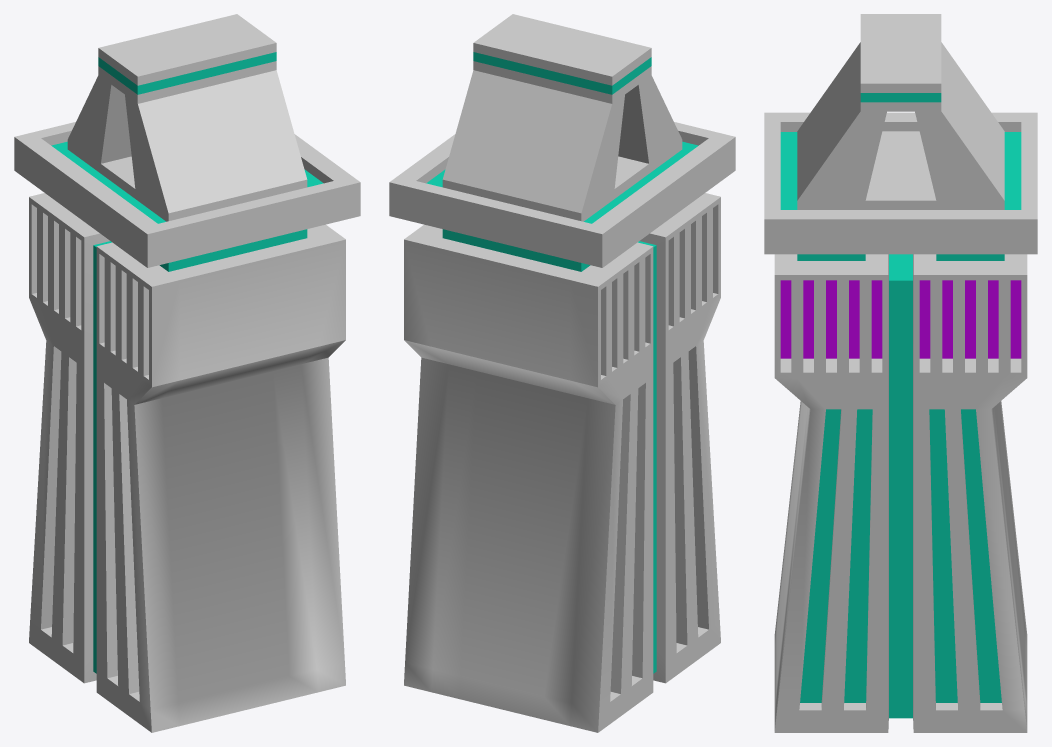
Rendered from SM_Building_Short_2.fbx.
The picture shows the model from 3 angles, left to right: view 1: azimuth 30°, elevation 25°; view 2: azimuth 150°, elevation 25°; view 3: azimuth 270°, elevation 25°; orthographic projection. The views are drawn at different scales.
Parts seen in each view (by area): view 1: building_05.002; view 2: building_05.002; view 3: building_05.002.
Boxes of the visible parts, bbox=[...] form: building_05.002: bbox=[14, 14, 360, 732]; building_05.002: bbox=[389, 14, 735, 732]; building_05.002: bbox=[764, 14, 1037, 732].
Size of the model in its own units: 8 by 22.2 by 8.66.
